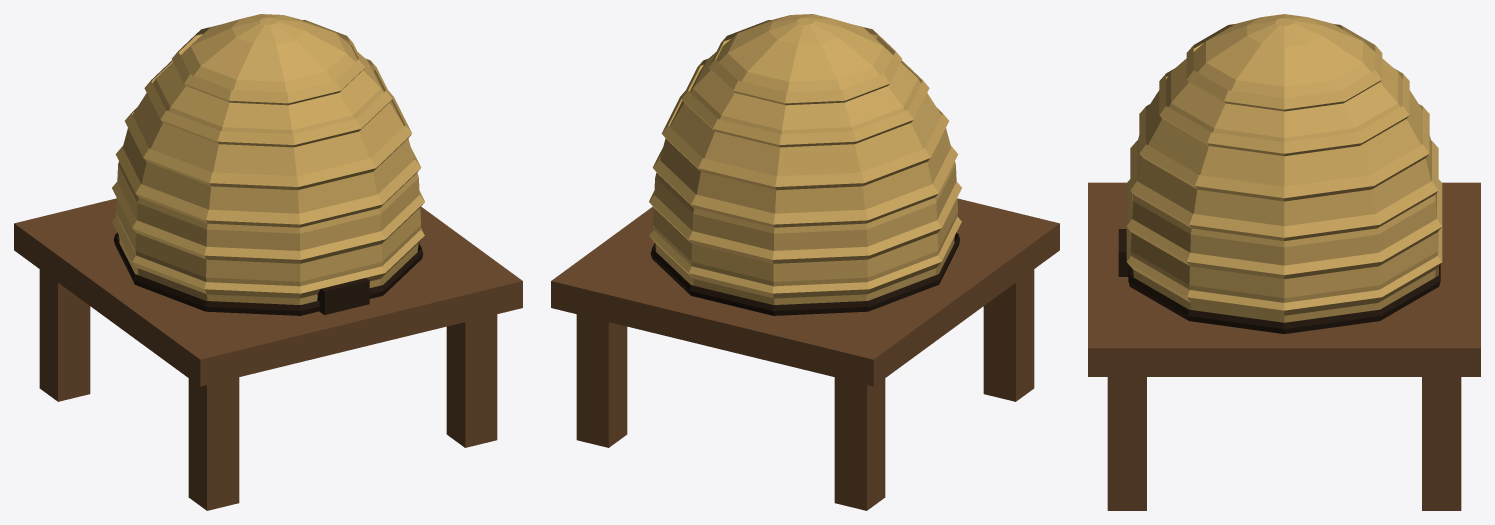
The model's file is Prop_Bee_Skep_LOD1.glb.
3 renders of one model, left to right at view 1: azimuth 30°, elevation 25°; view 2: azimuth 150°, elevation 25°; view 3: azimuth 270°, elevation 25°, orthographic. The views are drawn at different scales.
Visible parts, largest first — view 1: Prop_Bee_Skep; view 2: Prop_Bee_Skep; view 3: Prop_Bee_Skep.
Boxes of the visible parts, x1,y1,x2,y2 form: Prop_Bee_Skep: (14,14,522,510); Prop_Bee_Skep: (551,14,1059,510); Prop_Bee_Skep: (1088,14,1480,510).
Bounding box in the file's own units: 0.5 × 0.582 × 0.5.
